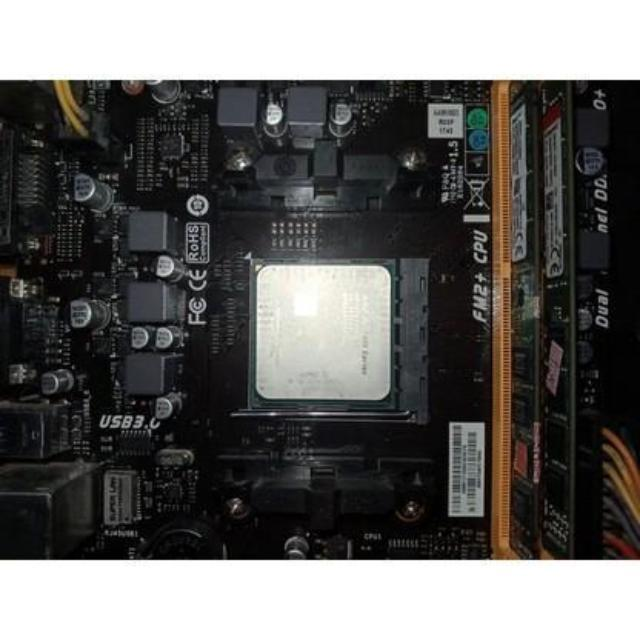CPU: (252, 260, 396, 412)
